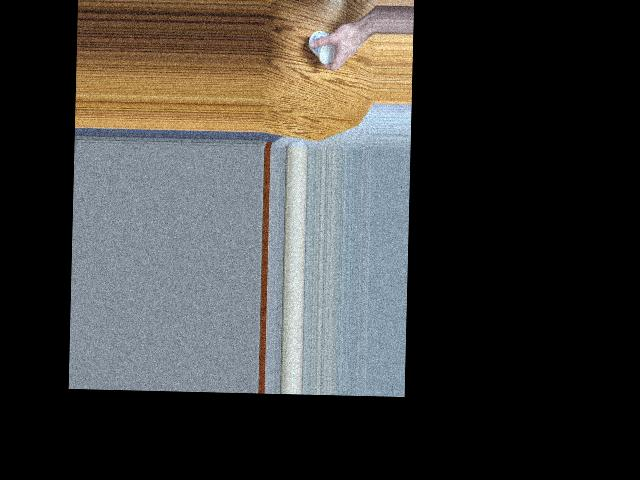cotage: (306, 33, 338, 71)
